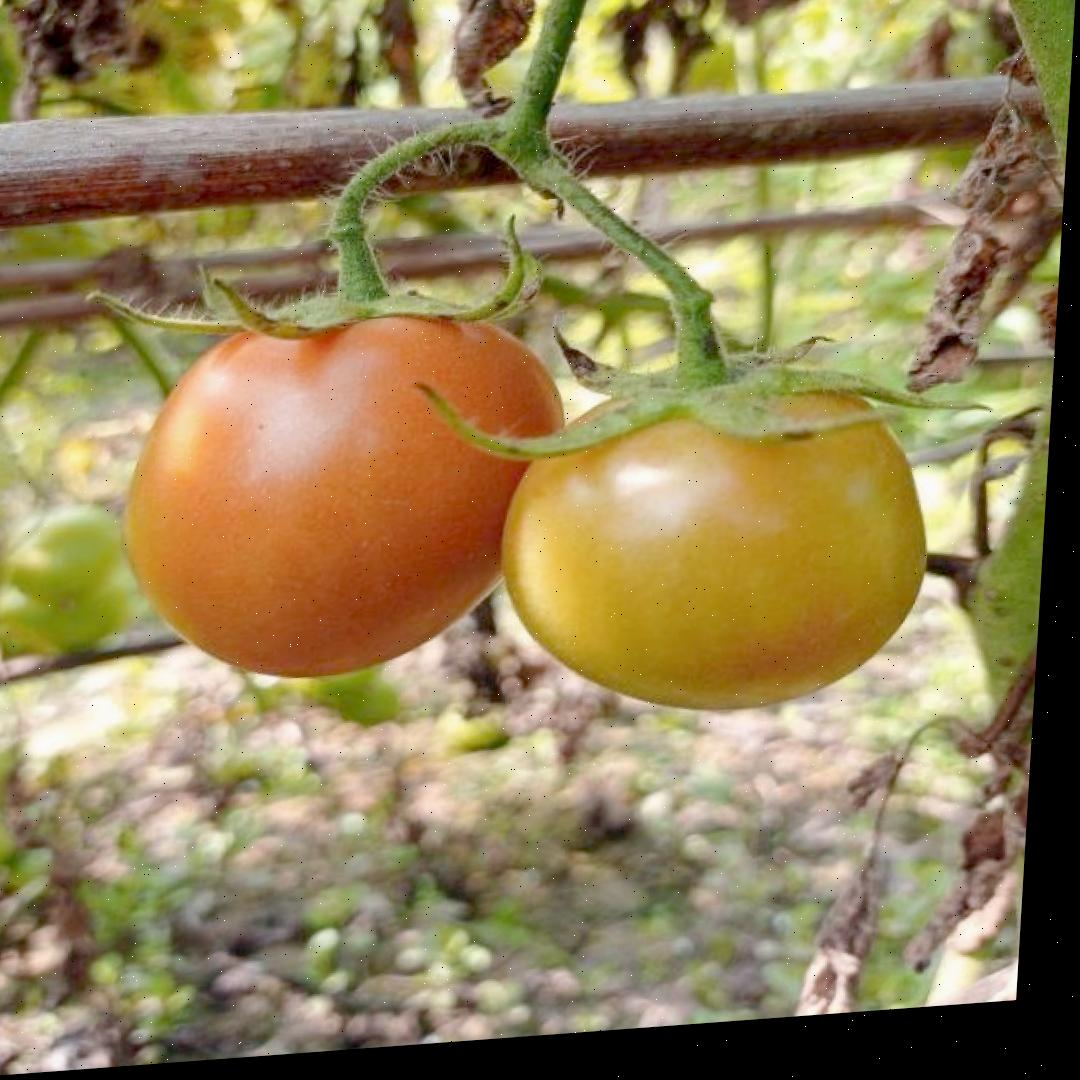setengah_matang: (112, 282, 579, 692), (494, 347, 945, 727)
